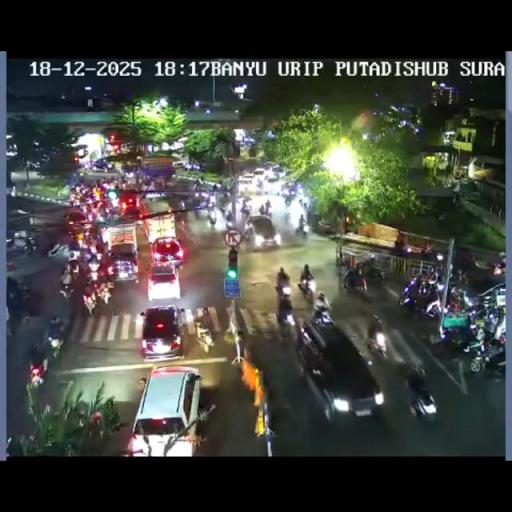Car: (294, 318, 382, 419), (126, 364, 202, 455), (138, 304, 184, 361), (146, 260, 182, 302), (109, 242, 139, 282), (246, 215, 279, 250), (150, 236, 184, 267), (118, 190, 142, 217), (64, 210, 88, 234), (238, 173, 254, 190), (269, 164, 286, 179), (252, 168, 266, 185)
Motorcycle: (399, 276, 443, 318), (404, 365, 437, 419), (465, 331, 504, 373), (438, 312, 476, 350), (466, 298, 504, 330), (27, 344, 50, 386), (364, 328, 387, 358), (342, 268, 368, 294), (194, 322, 214, 354), (311, 301, 334, 327), (446, 286, 468, 312), (276, 300, 294, 330), (392, 241, 422, 258), (96, 282, 114, 310), (6, 235, 27, 259), (298, 275, 316, 302), (421, 246, 444, 266), (48, 331, 64, 359), (82, 284, 96, 314), (58, 277, 74, 300), (225, 213, 244, 232), (275, 278, 292, 299), (450, 267, 468, 286), (339, 254, 355, 274), (17, 280, 30, 304), (294, 220, 309, 238), (102, 202, 117, 220), (23, 236, 37, 255), (363, 253, 377, 272), (490, 259, 506, 275), (318, 218, 334, 234), (202, 192, 216, 210), (66, 258, 80, 276), (259, 203, 272, 218), (206, 210, 216, 228), (194, 203, 204, 220), (426, 270, 438, 284), (220, 186, 230, 202), (228, 178, 238, 194), (241, 206, 250, 222), (263, 182, 274, 195), (178, 218, 186, 233), (140, 181, 150, 193), (284, 194, 293, 206), (221, 207, 228, 221), (178, 198, 186, 210), (193, 180, 201, 190), (211, 182, 218, 192), (298, 198, 304, 209)
